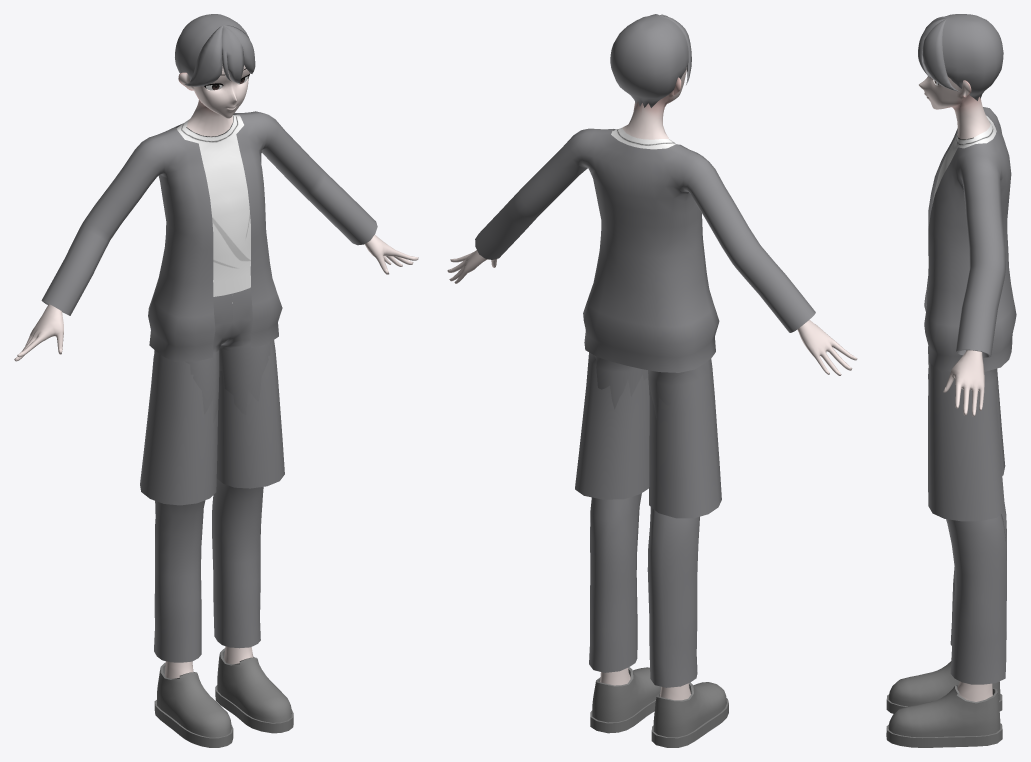
File: npc_male_NoRig.fbx
3 views of the same model, side by side, from view 1: azimuth 30°, elevation 25°; view 2: azimuth 150°, elevation 25°; view 3: azimuth 270°, elevation 25° (orthographic).
Visible parts, largest first — view 1: top_01, bottom_02, bottom_01, body_standadrd, shoes, Object001; view 2: top_01, bottom_02, bottom_01, shoes, Object001, body_standadrd; view 3: top_01, bottom_01, bottom_02, shoes, Object001, body_standadrd.
Part boxes in pixels (box(x1,y1,x2,y2)): top_01: box(41, 111, 377, 361); bottom_02: box(154, 287, 271, 662); bottom_01: box(140, 315, 284, 505); body_standadrd: box(14, 65, 418, 678); shoes: box(154, 648, 293, 747); Object001: box(175, 14, 255, 86); top_01: box(475, 128, 815, 372); bottom_02: box(589, 355, 699, 687); bottom_01: box(575, 352, 721, 518); shoes: box(590, 667, 728, 747); Object001: box(610, 14, 691, 107); body_standadrd: box(447, 67, 857, 700); top_01: box(924, 107, 1016, 371); bottom_01: box(928, 367, 1005, 521); bottom_02: box(926, 279, 1006, 684); shoes: box(886, 661, 1002, 747); Object001: box(918, 14, 1003, 100); body_standadrd: box(919, 74, 996, 701).
Size of the model in its own units: 109 by 180 by 30.16.
